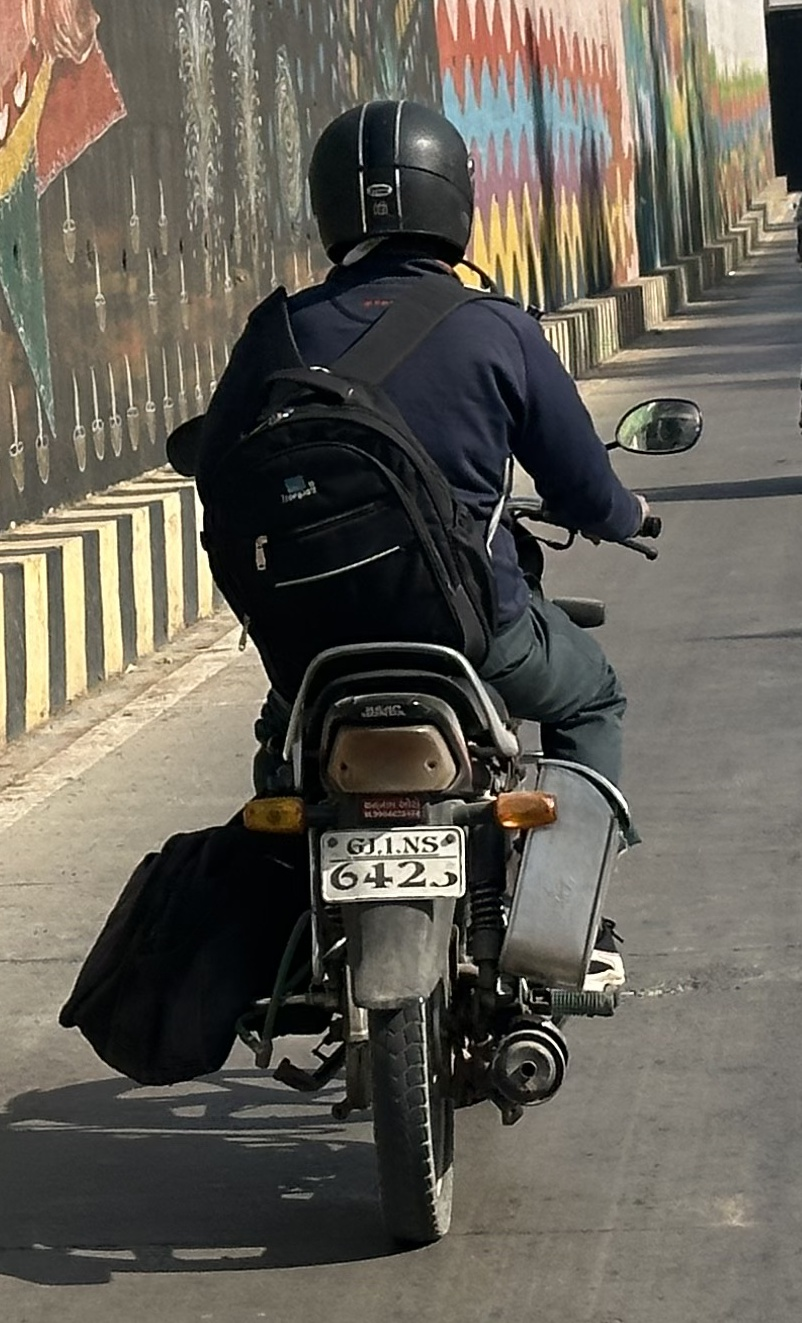BikeWithRider: (48, 78, 714, 1265)
Helmet: (293, 82, 490, 286)
